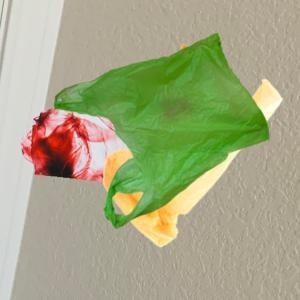plastic_bag: (53, 28, 274, 230)
